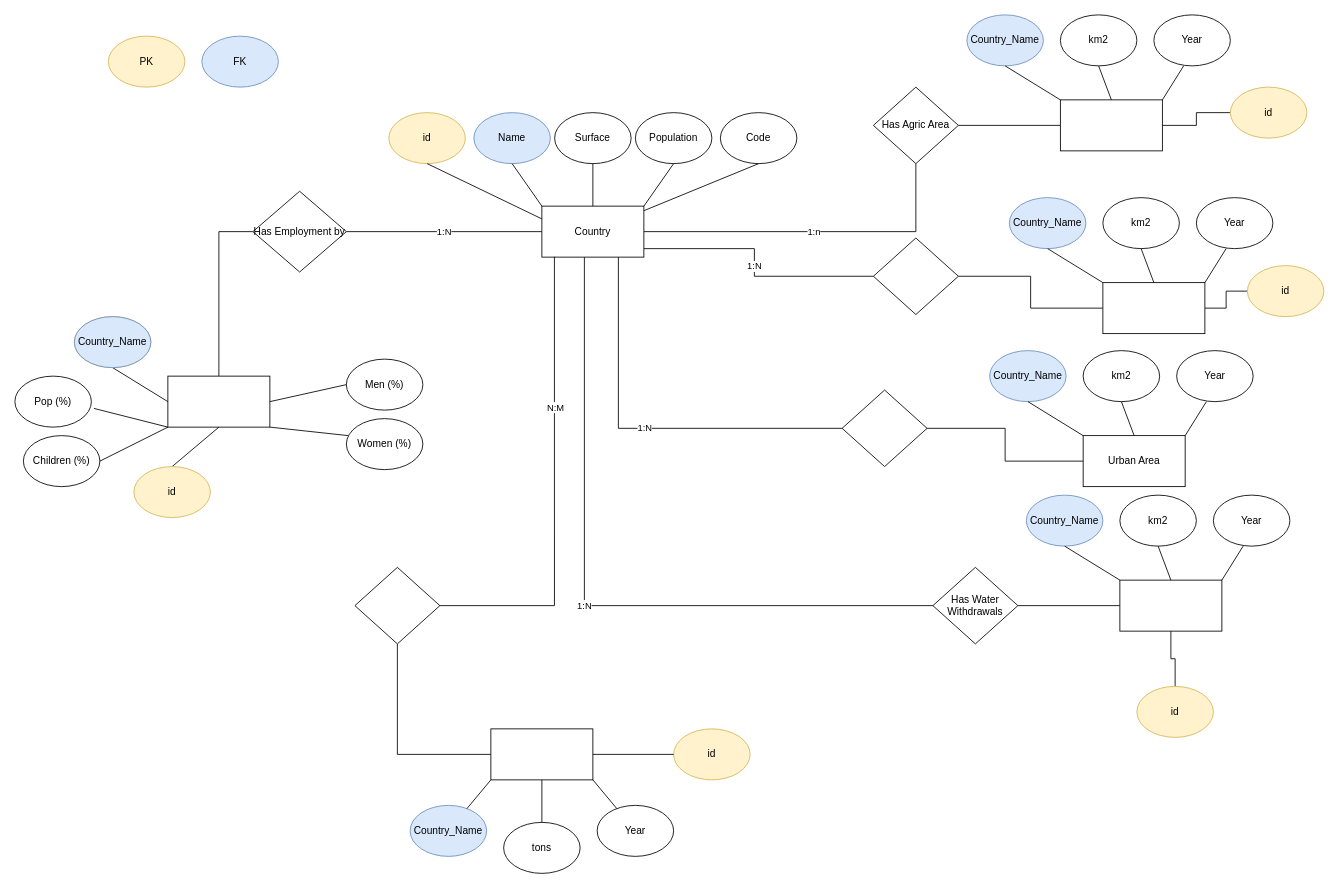
The diagram is 1339 pixels wide and 888 high, and some of its shapes have lost their labels. The centre of each missing label's shape, as x and y in pixels:
"Agricultural Land" belongs at [1111,125].
"Employment" belongs at [218,401].
"Food" belongs at [541,754].
"Forest Area" belongs at [1153,308].
"Has Forest Area" belongs at [915,275].
"Has Urban Area" belongs at [884,428].
"Produces" belongs at [397,605].
"Water Withdrawal" belongs at [1170,605].
